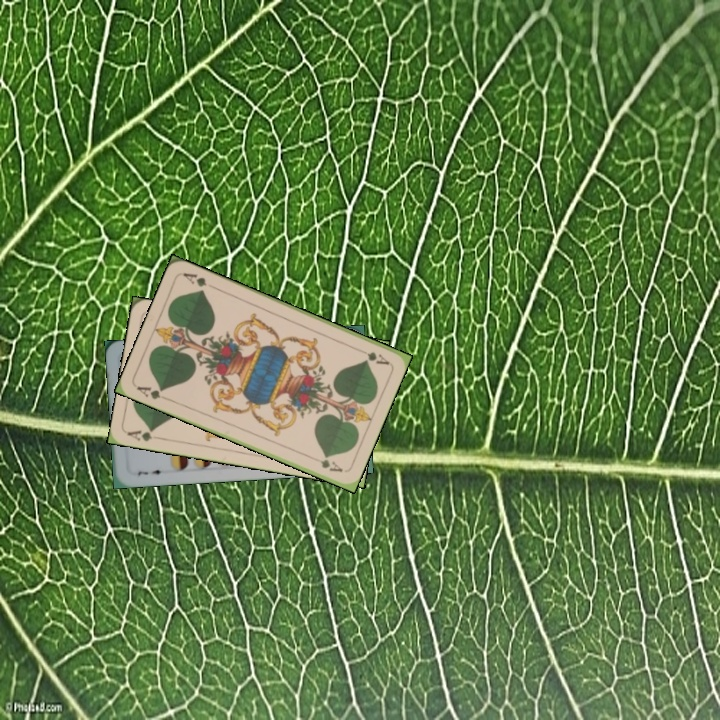E7: (134, 466, 168, 478)
GA: (353, 344, 392, 368), (132, 382, 172, 403), (124, 425, 164, 444)
